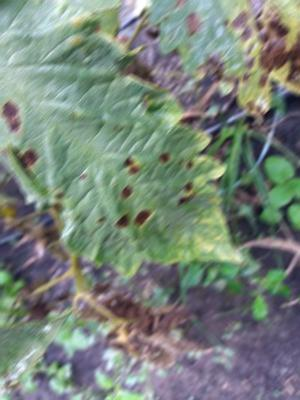Tomato Early blight leaf: (1, 13, 245, 260)
